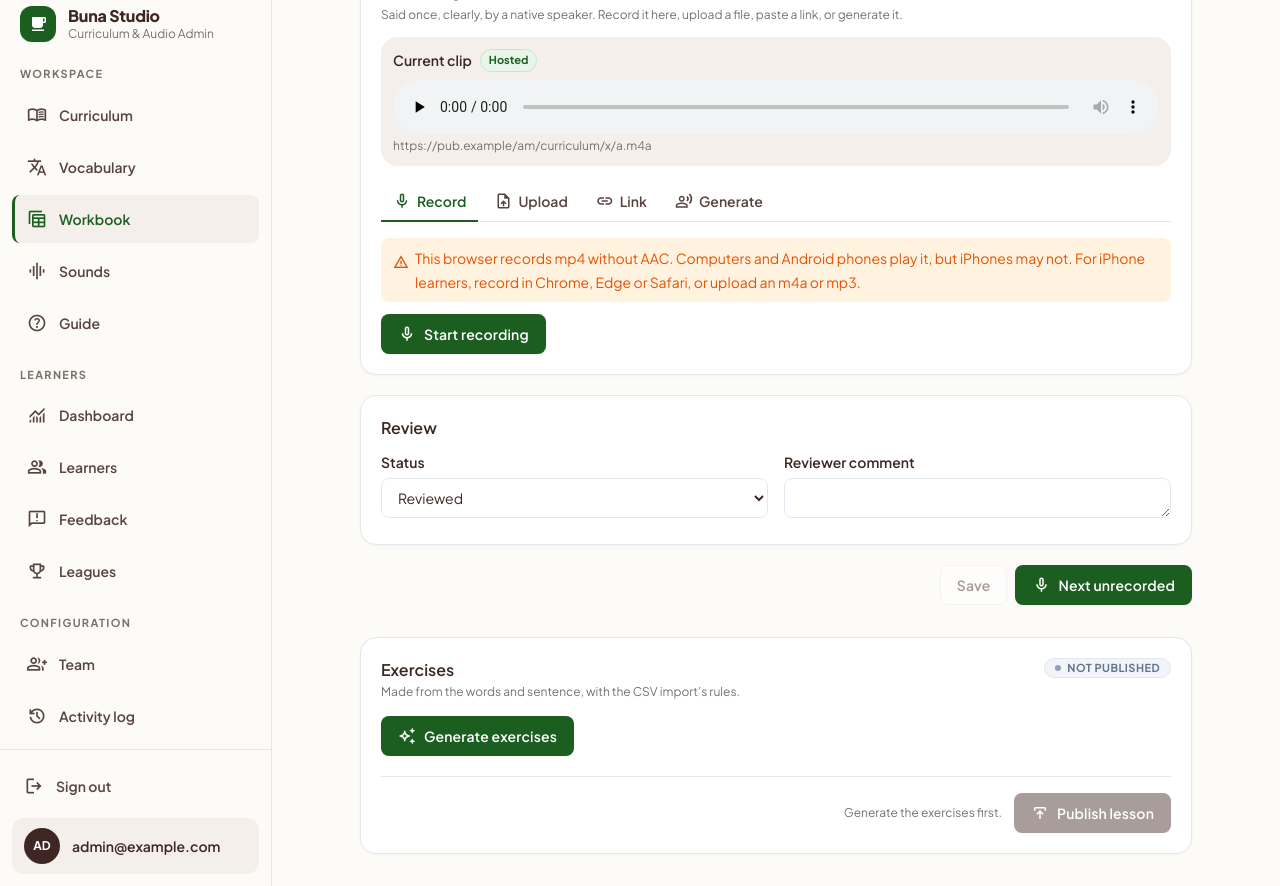
it: a lesson’s exercises › publish the lesson, then say it is published
(page scrolled)
Click the button "Generate exercises": x=478, y=736 [381,716,574,756]
(page scrolled)
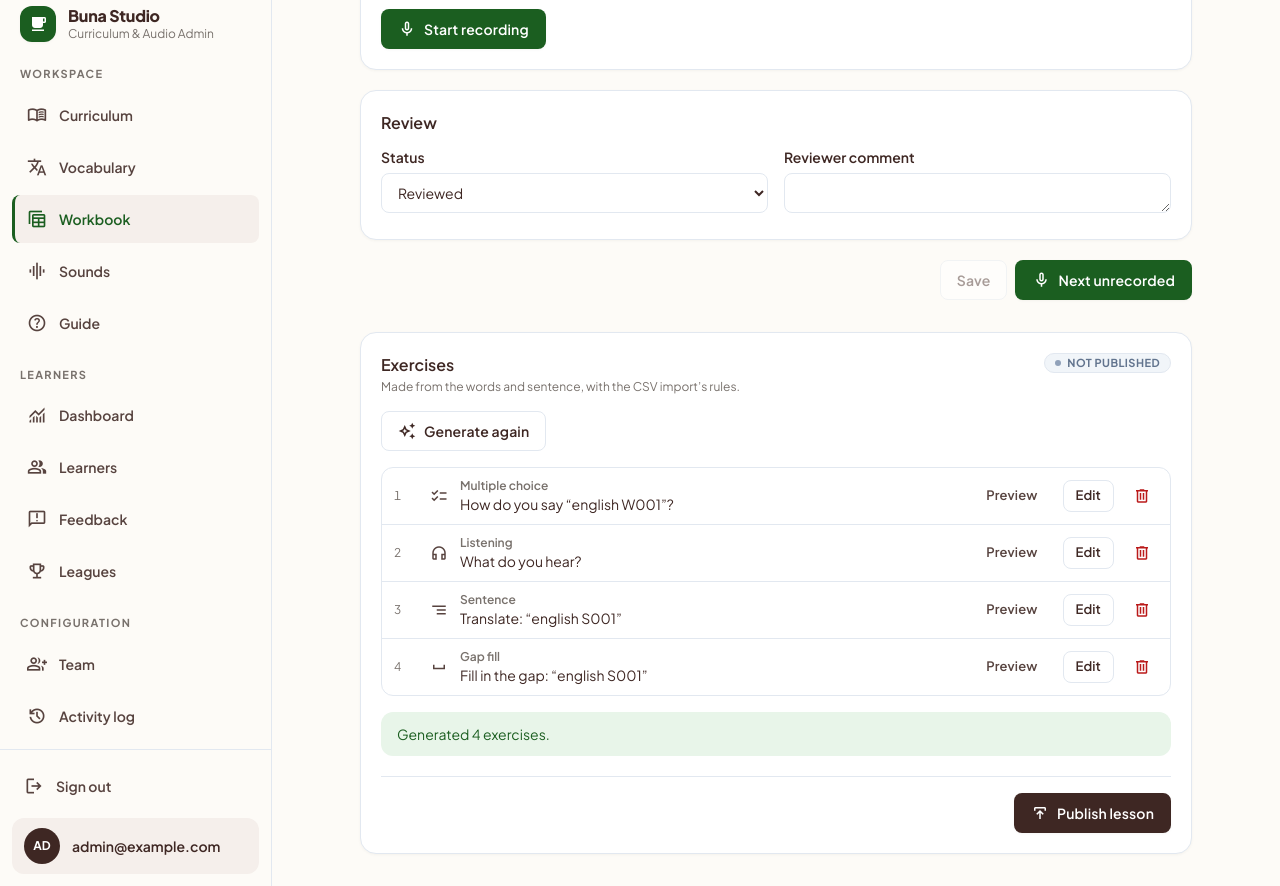
Expected: the text "Not published" is shown, [1044,352,1171,372]
Result: the text "Generated 4 exercises." is shown at [381,712,1171,756]
Click the button "Publish lesson": x=1092, y=812 [1014,792,1171,832]
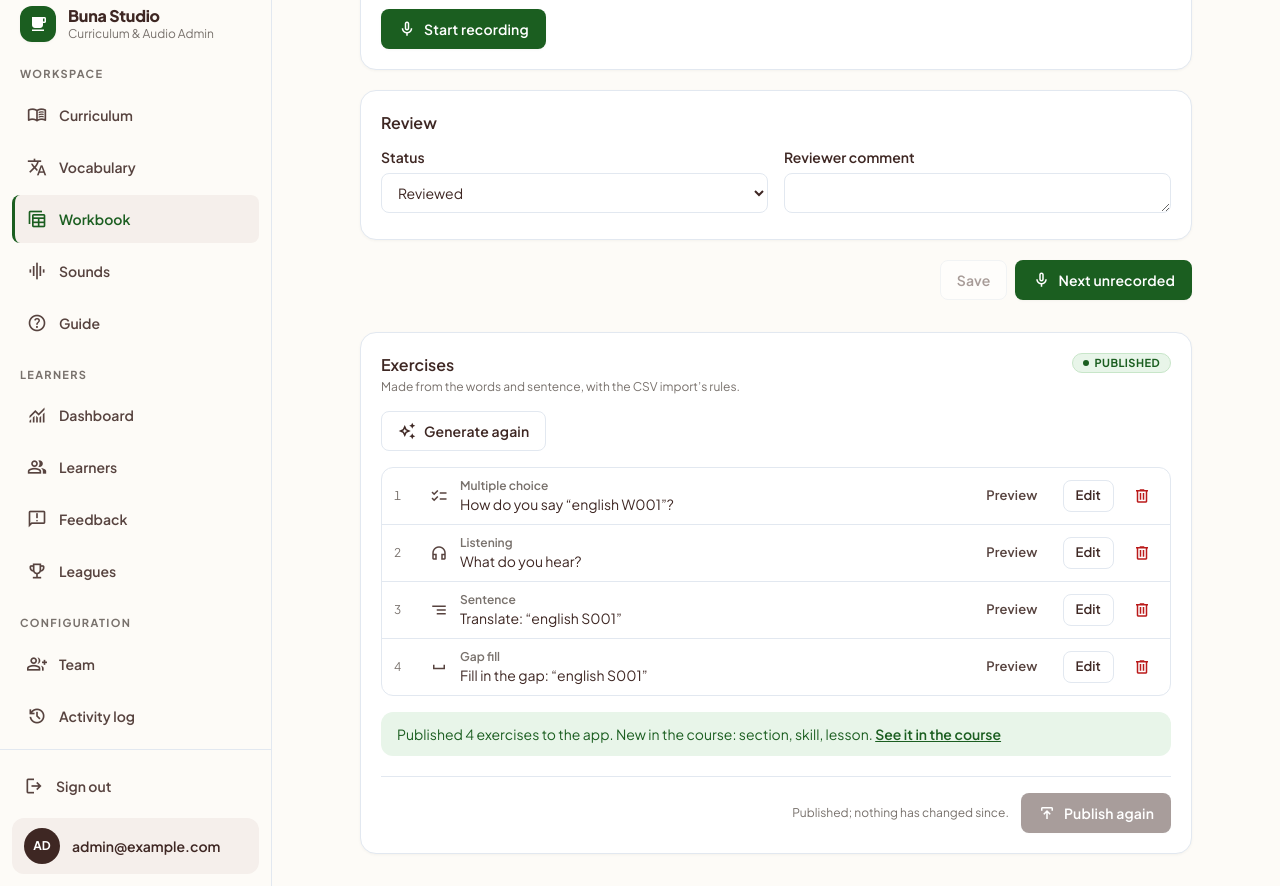
Result: the text "Published 4 exercises to the app. New in the course: section, skill, lesson." is shown at [381,712,1171,756]
Result: the button "Publish again" is disabled at [1021,792,1171,832]
Result: the text "Published; nothing has changed since." is shown at [792,804,1009,820]
